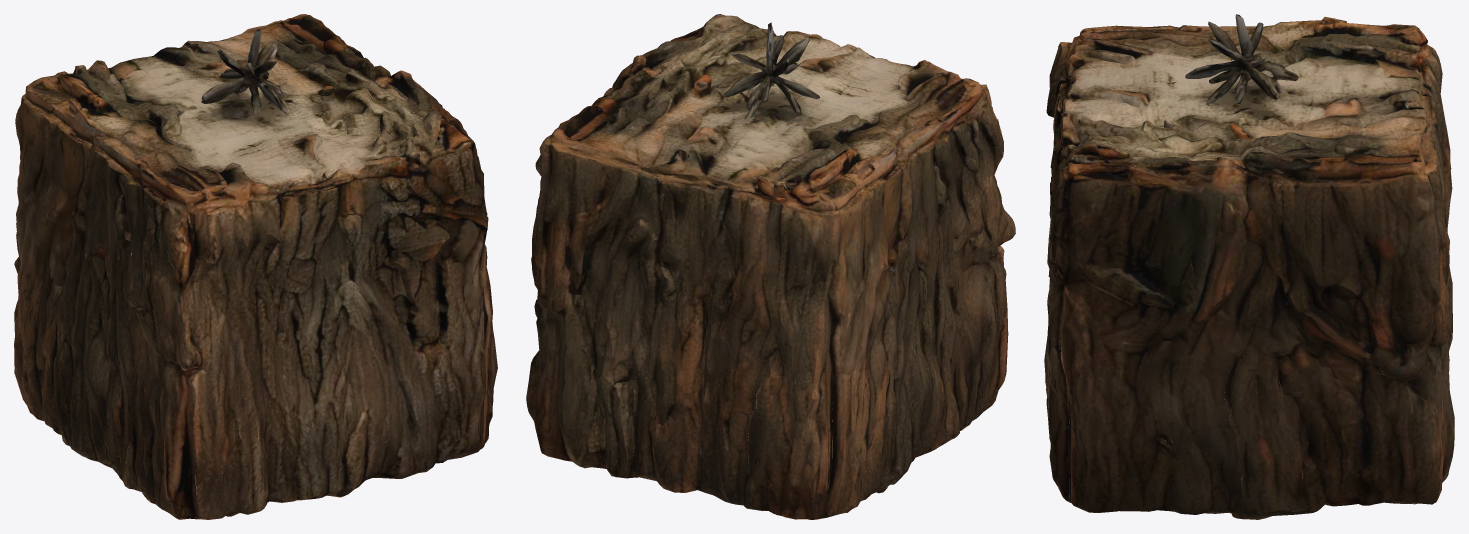
3 views of the same model, side by side, from view 1: azimuth 30°, elevation 25°; view 2: azimuth 150°, elevation 25°; view 3: azimuth 270°, elevation 25° (orthographic). The views are drawn at different scales.
Parts seen in each view (by area): view 1: textured_mesh; view 2: textured_mesh; view 3: textured_mesh.
Boxes of the visible parts, left/top/right/bottom form: textured_mesh: left=14, top=14, right=497, bottom=519; textured_mesh: left=526, top=14, right=1015, bottom=519; textured_mesh: left=1044, top=14, right=1454, bottom=519.
Size of the model in its own units: 1.68 by 1.98 by 1.71.
Materials: 1 (1 with a texture image).
